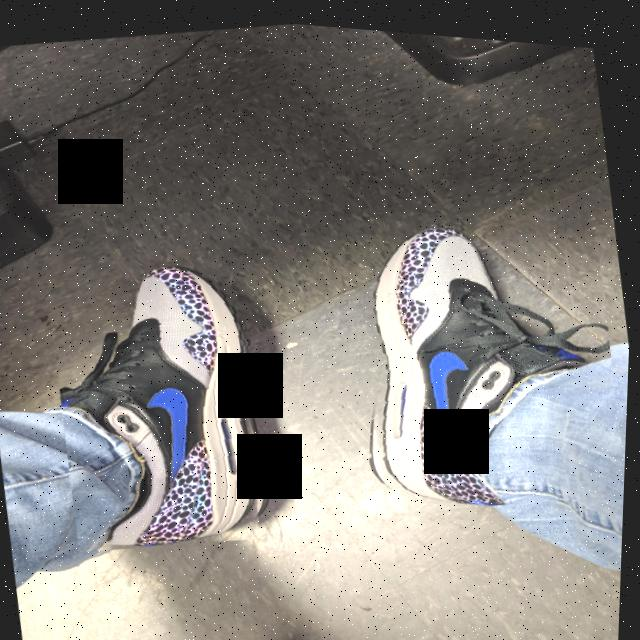shoe: (331, 182, 635, 524), (40, 241, 288, 563)
